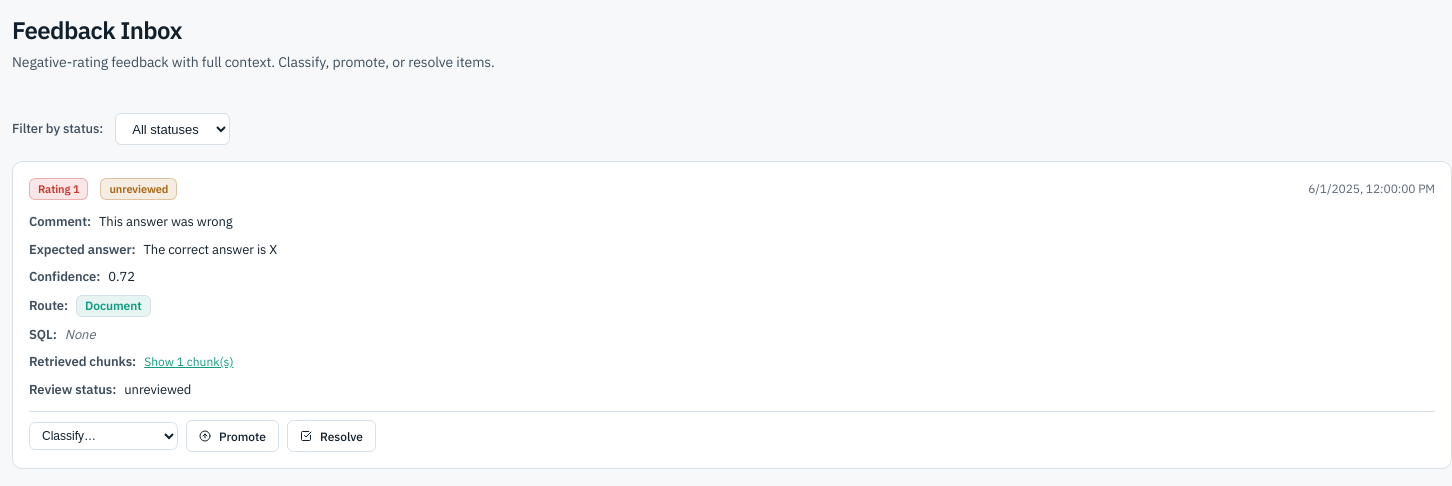
FeedbackInboxPage › removes a resolved item from a filtered view it no longer matches
Expected: the text "Rating 1" is shown, [29,178,88,200]
Constrain the view to unreviewed items (the item is unreviewed).
Step 1. Select "Unreviewed" in the dropdown named "Filter by review status" → point(173, 129), box [115,113,230,145]
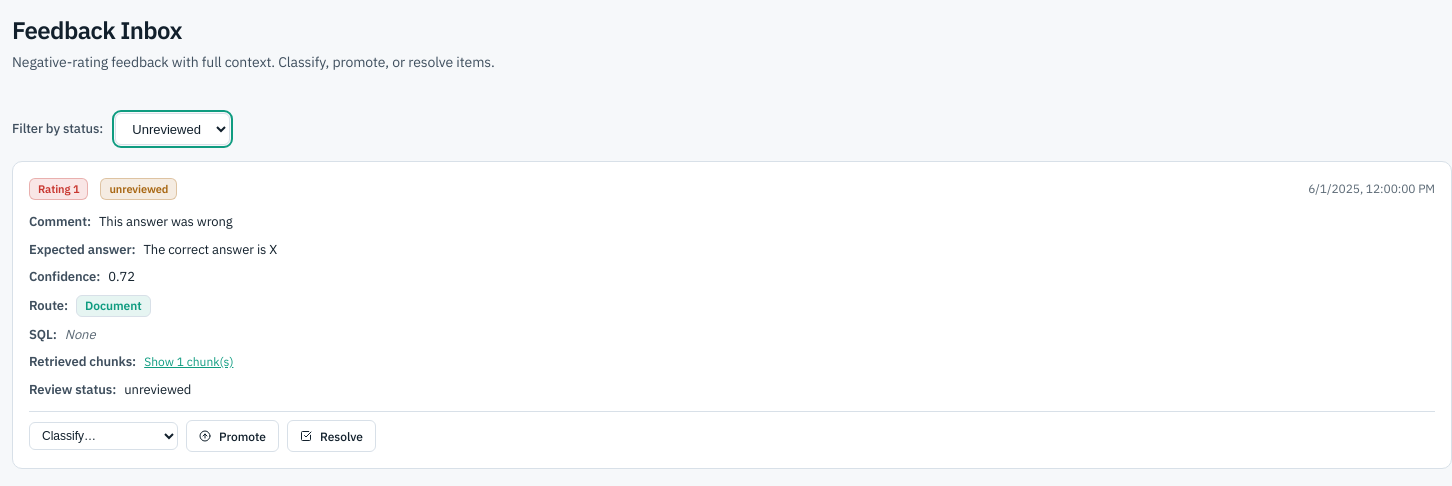
Step 2. Click the button with aria-label "Resolve feedback" → point(332, 436), box [287,420,376,452]
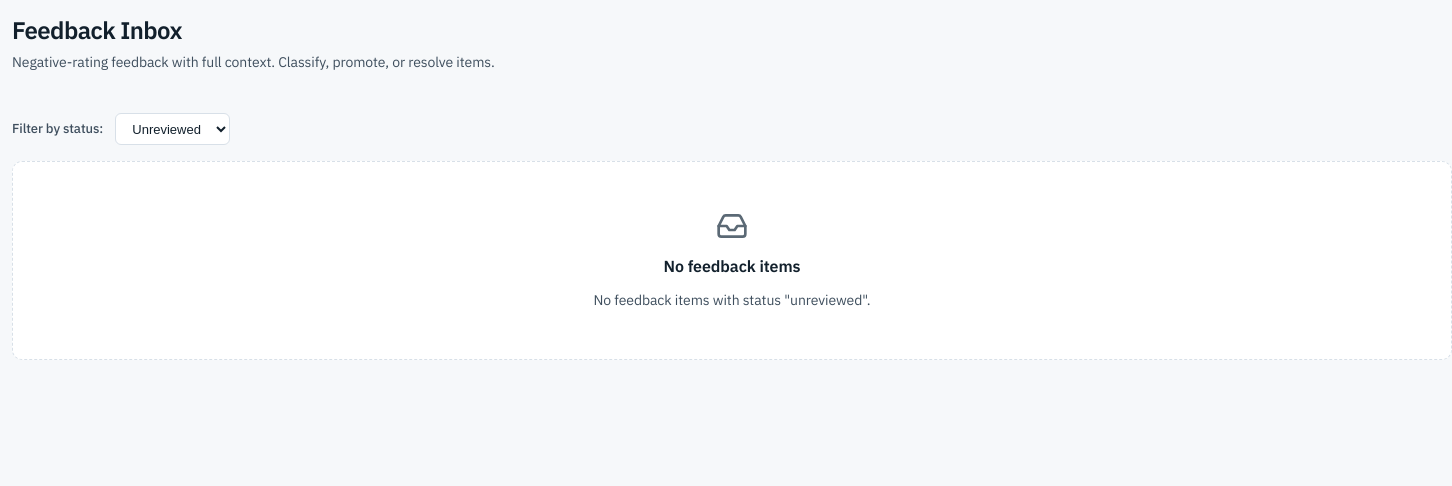
Expected: the text "No feedback items" is shown, [664,254,800,278]
